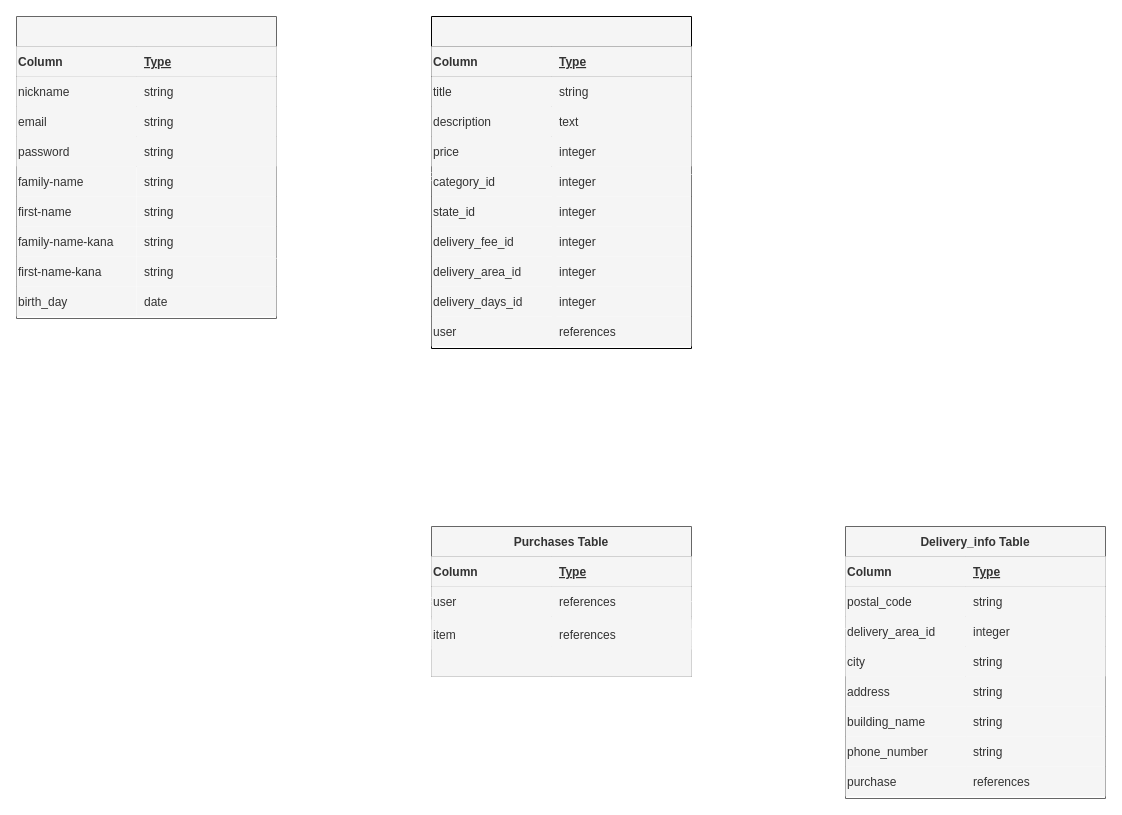
This 1122x815 diagram has some shape labels left out. The shapes that lost their labels are listed below. From the top down, each one's box as (x1, y1, x2, y2) in pixels, then its label:
(16, 16, 276, 318): Users Table
(430, 16, 692, 348): Items Table
